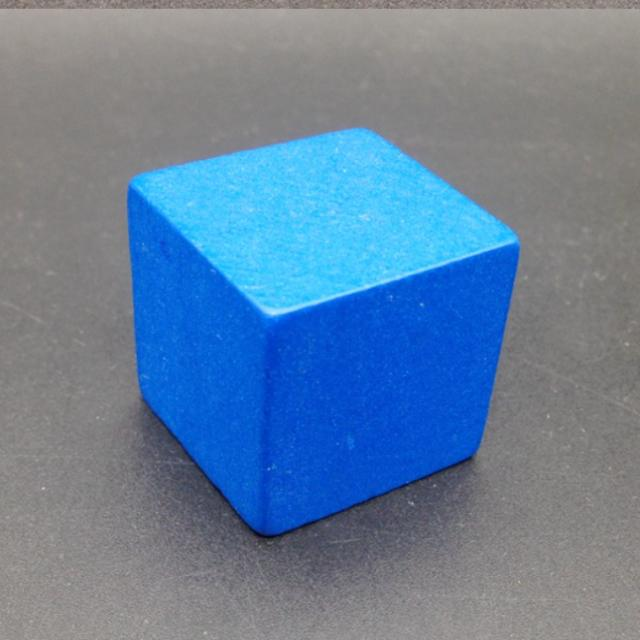bluecube: (126, 128, 521, 540)
